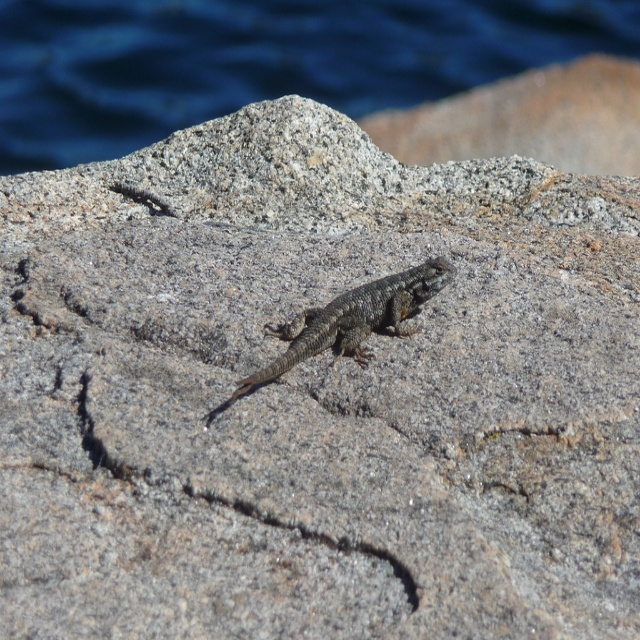Lizard: (211, 258, 456, 432)
